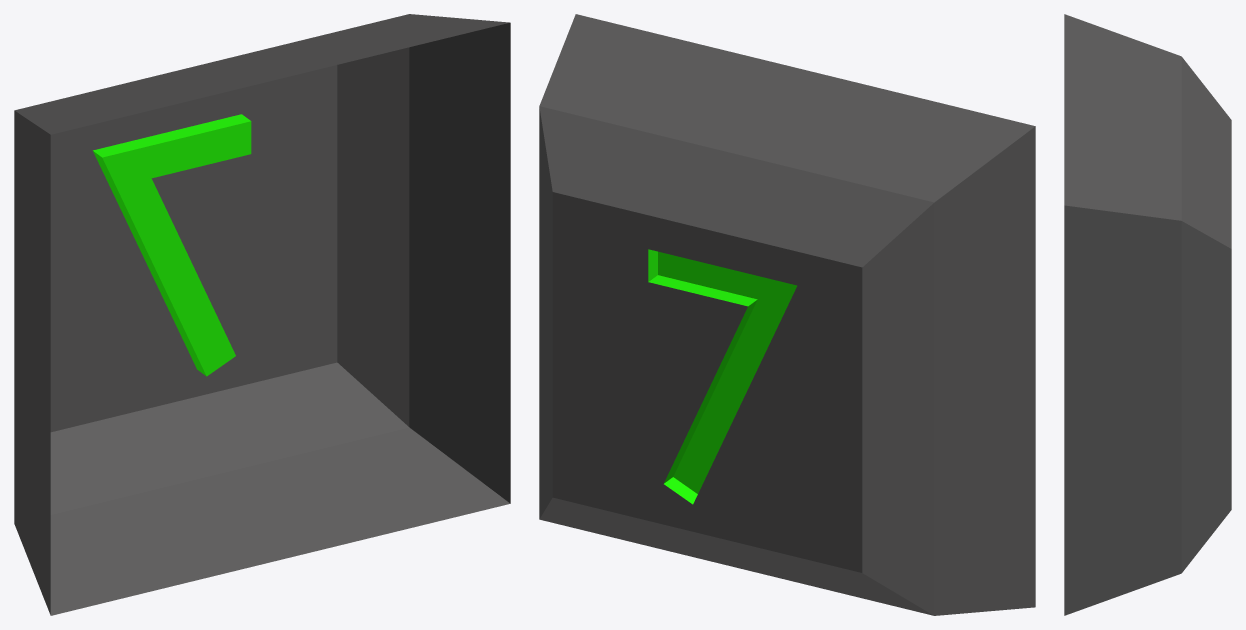
3 views of the same model, side by side, from view 1: azimuth 30°, elevation 25°; view 2: azimuth 150°, elevation 25°; view 3: azimuth 270°, elevation 25° (orthographic). The views are drawn at different scales.
Visible parts, largest first — view 1: key 2.009; view 2: key 2.009; view 3: key 2.009.
Part boxes in pixels (x1,y1,x2,y2): key 2.009: [14, 14, 510, 615]; key 2.009: [539, 14, 1035, 615]; key 2.009: [1064, 14, 1231, 615].
Size of the model in its own units: 4.81 by 4.81 by 1.78.
